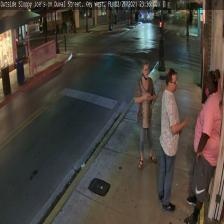person: (188, 70, 223, 224), (156, 68, 187, 210), (135, 61, 156, 169)
